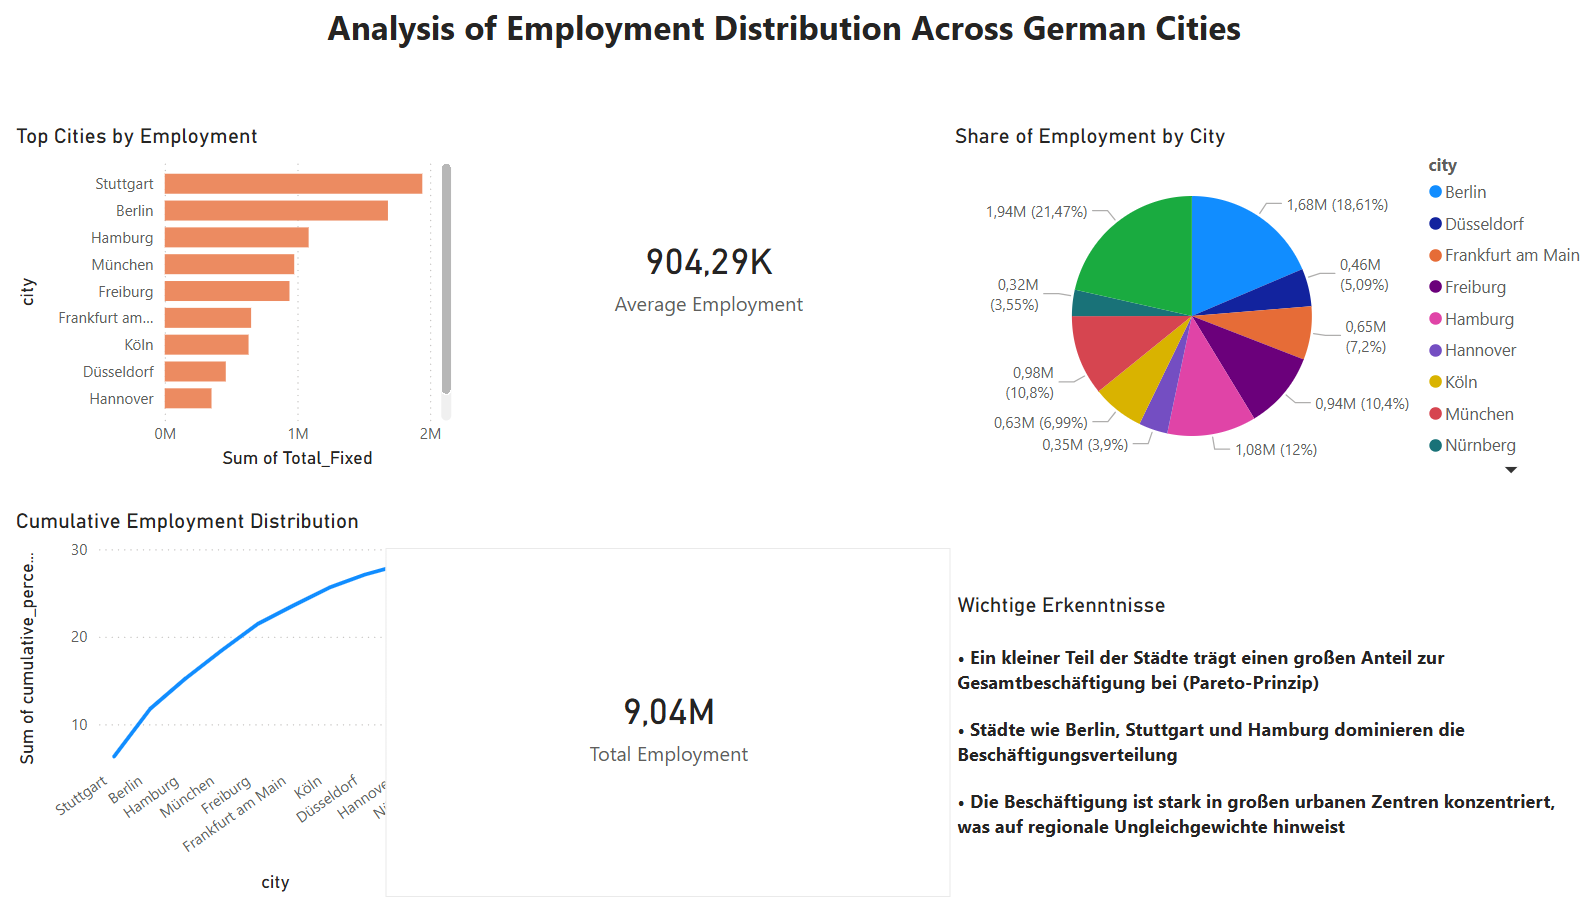

This screenshot's page, from the dashboard's own definition file:
{"tool":"powerbi","page":{"name":"Page 1","canvas":[1280,720],"ordinal":0},"visuals":[{"type":"barChart","title":"Top Cities by Employment","fields":{"Category":["output.city"],"Y":["Sum(output.Total_Fixed)"]},"box":[9.5,99.9,357.5,280.7],"z":0},{"type":"lineChart","title":"Cumulative Employment Distribution","fields":{"Category":["output.city"],"Y":["Sum(output.cumulative_percentage)"]},"box":[9.5,407.9,357.5,312.3],"z":1},{"type":"pieChart","title":"Share of Employment by City","fields":{"Series":["output.city"],"Y":["Sum(output.Total_Fixed)"]},"box":[760.2,99.9,519.4,290.2],"z":4},{"type":"textbox","box":[218.7,0,819,57.8],"z":5},{"type":"textbox","title":"Wichtige Erkenntnisse","box":[762,475,518,211],"z":6},{"type":"card","title":"Average per City","fields":{"Values":["output.Average Employment"]},"box":[375.4,78.9,385.9,280.7],"z":7},{"type":"card","title":"Total Employment","fields":{"Values":["output.Total Employment"]},"box":[310.1,440.5,451.5,279.9],"z":8}]}

Visuals, with their boxes in screenshot pixels (x1, y1, x2, y2), scaled from the page's 1280x720 canvas onto the 1596x897 screenshot:
"Top Cities by Employment" barChart: region(12, 124, 458, 474)
"Cumulative Employment Distribution" lineChart: region(12, 508, 458, 896)
"Share of Employment by City" pieChart: region(948, 124, 1595, 486)
textbox: region(273, 0, 1294, 72)
"Wichtige Erkenntnisse" textbox: region(950, 592, 1595, 855)
"Average per City" card: region(468, 98, 949, 448)
"Total Employment" card: region(387, 549, 950, 896)
